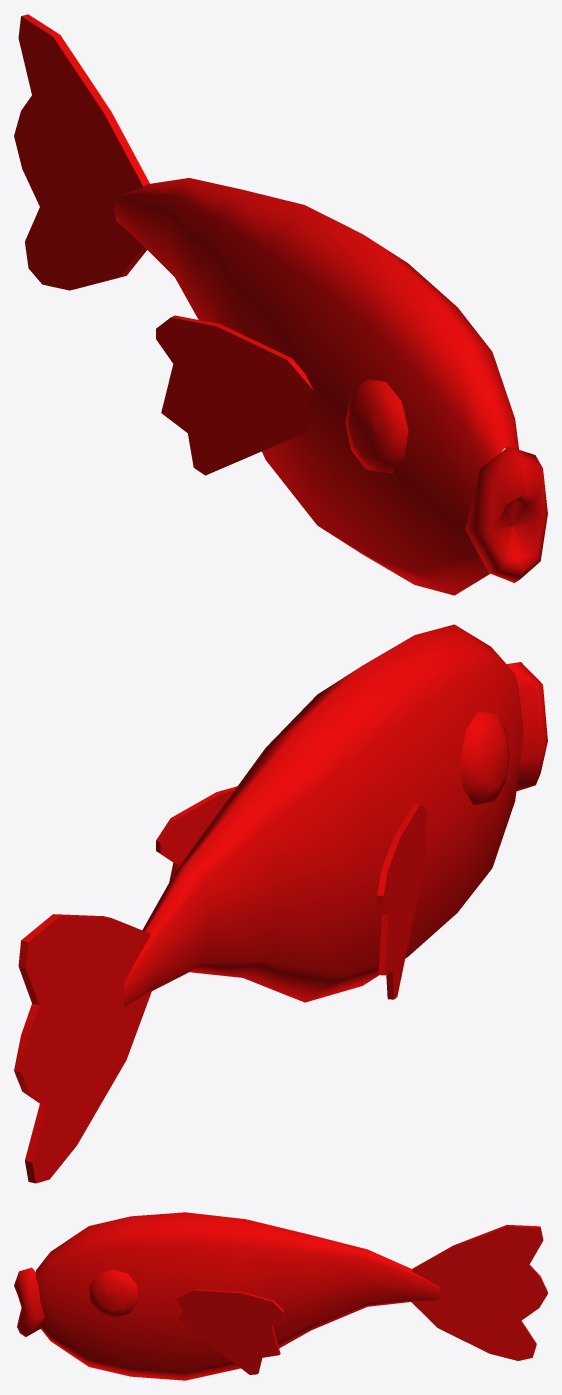
The picture shows the model from 3 angles, top to bottom: view 1: azimuth 30°, elevation 25°; view 2: azimuth 150°, elevation 25°; view 3: azimuth 270°, elevation 25°; orthographic projection. The views are drawn at different scales.
Parts seen in each view (by area): view 1: Fish_SnapperFish; view 2: Fish_SnapperFish; view 3: Fish_SnapperFish.
Part boxes in pixels (box(x1,y1,x2,y2)): Fish_SnapperFish: box(14, 14, 547, 595); Fish_SnapperFish: box(14, 624, 547, 1183); Fish_SnapperFish: box(14, 1212, 547, 1380).
Bounding box in the file's own units: 0.133 × 0.1789 × 0.5143.
